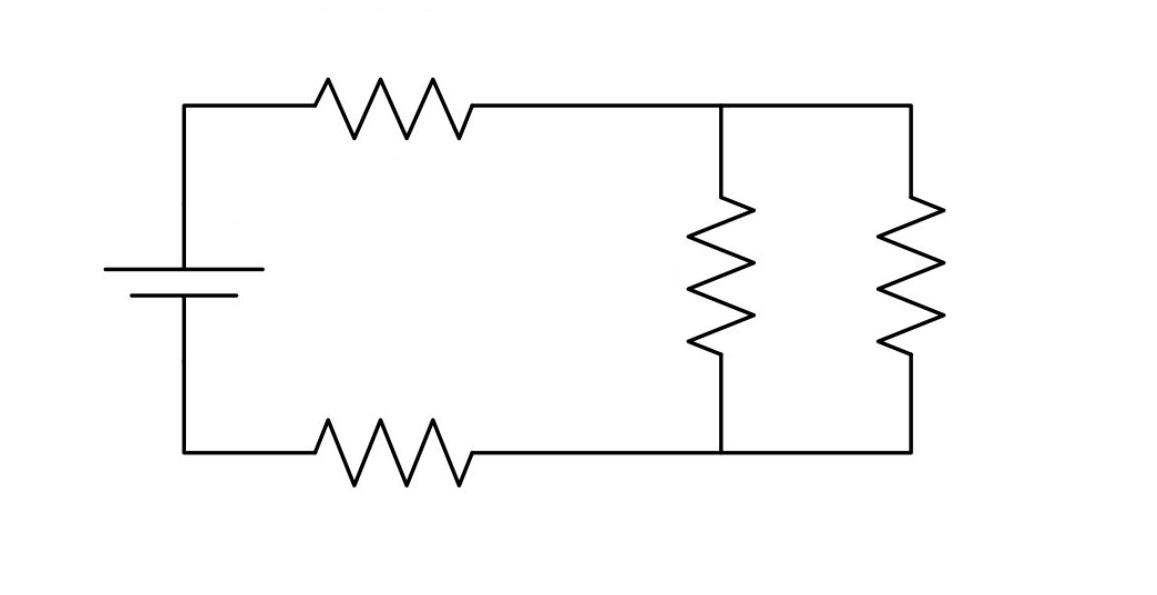resistor: (841, 153, 981, 396), (654, 149, 785, 387), (274, 403, 517, 520), (284, 51, 508, 156)
